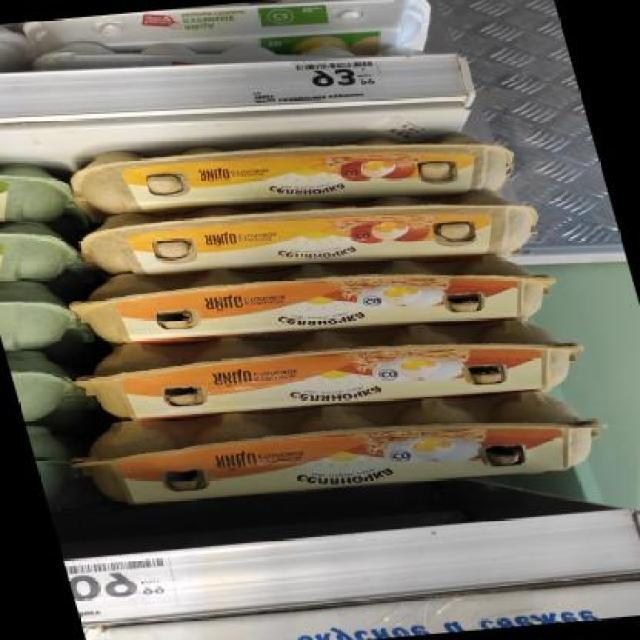egg: (60, 382, 618, 516), (76, 309, 594, 428), (70, 242, 566, 355), (71, 180, 549, 289), (67, 121, 522, 224), (26, 0, 443, 74), (5, 346, 90, 424), (0, 217, 82, 288), (0, 281, 81, 350), (0, 161, 75, 224)
